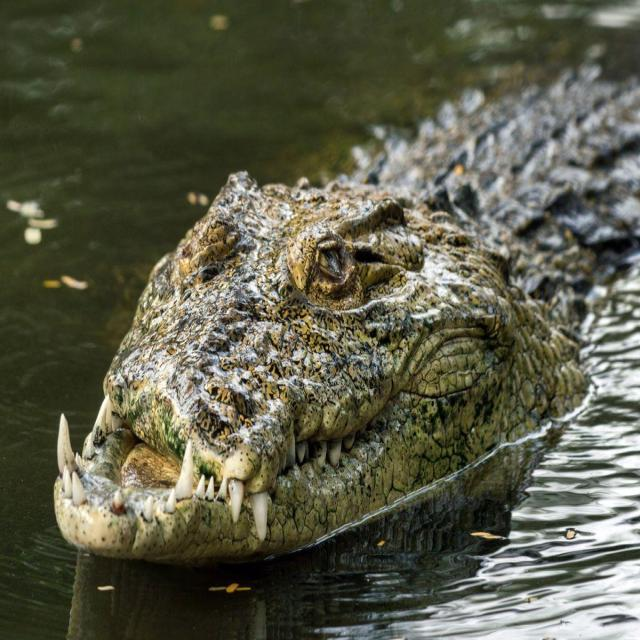crocodile: (48, 60, 639, 565)
